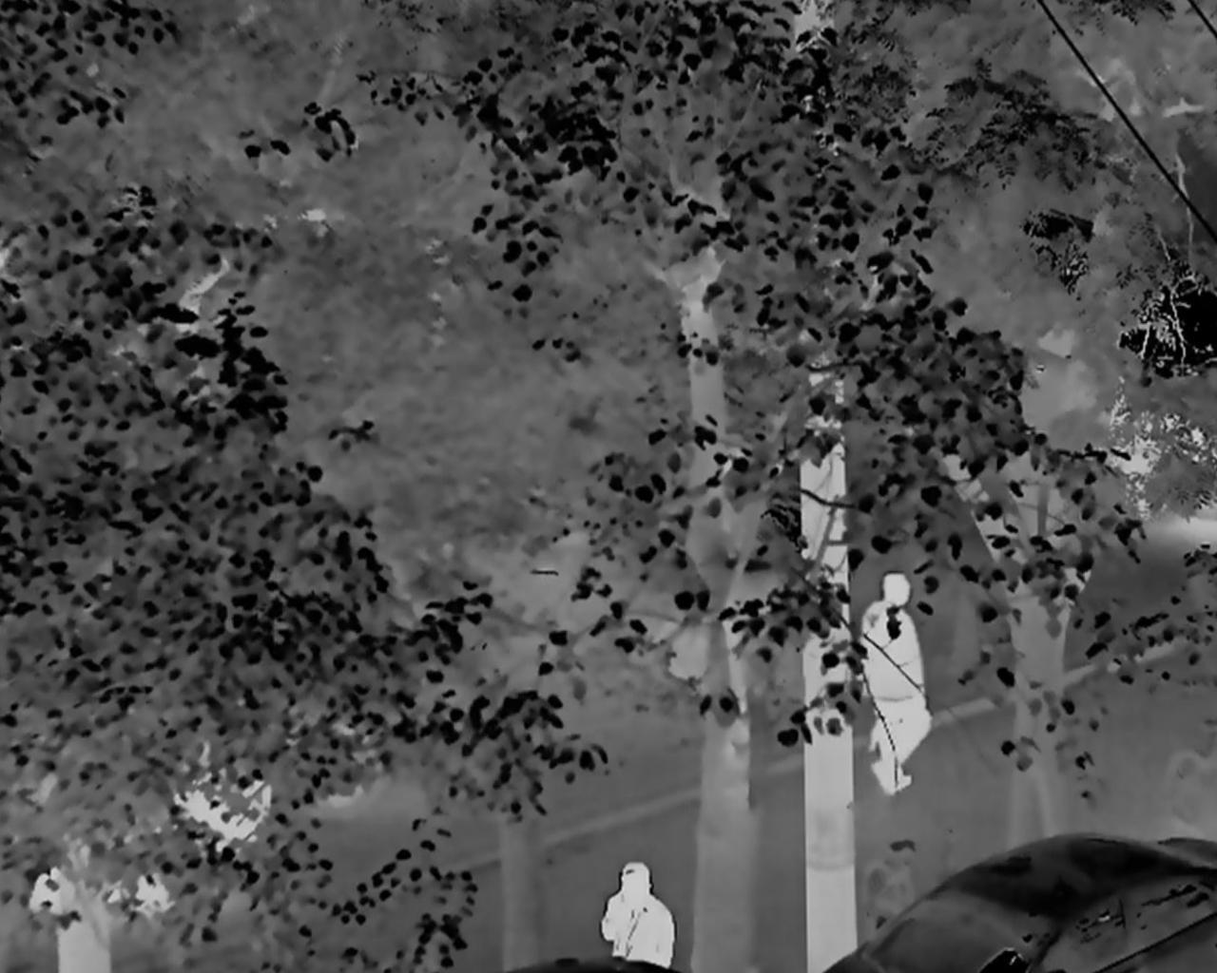person: (859, 569, 931, 796), (597, 862, 675, 973)
